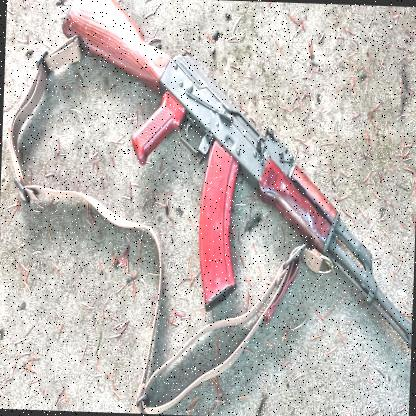rifle: (26, 0, 416, 373)
